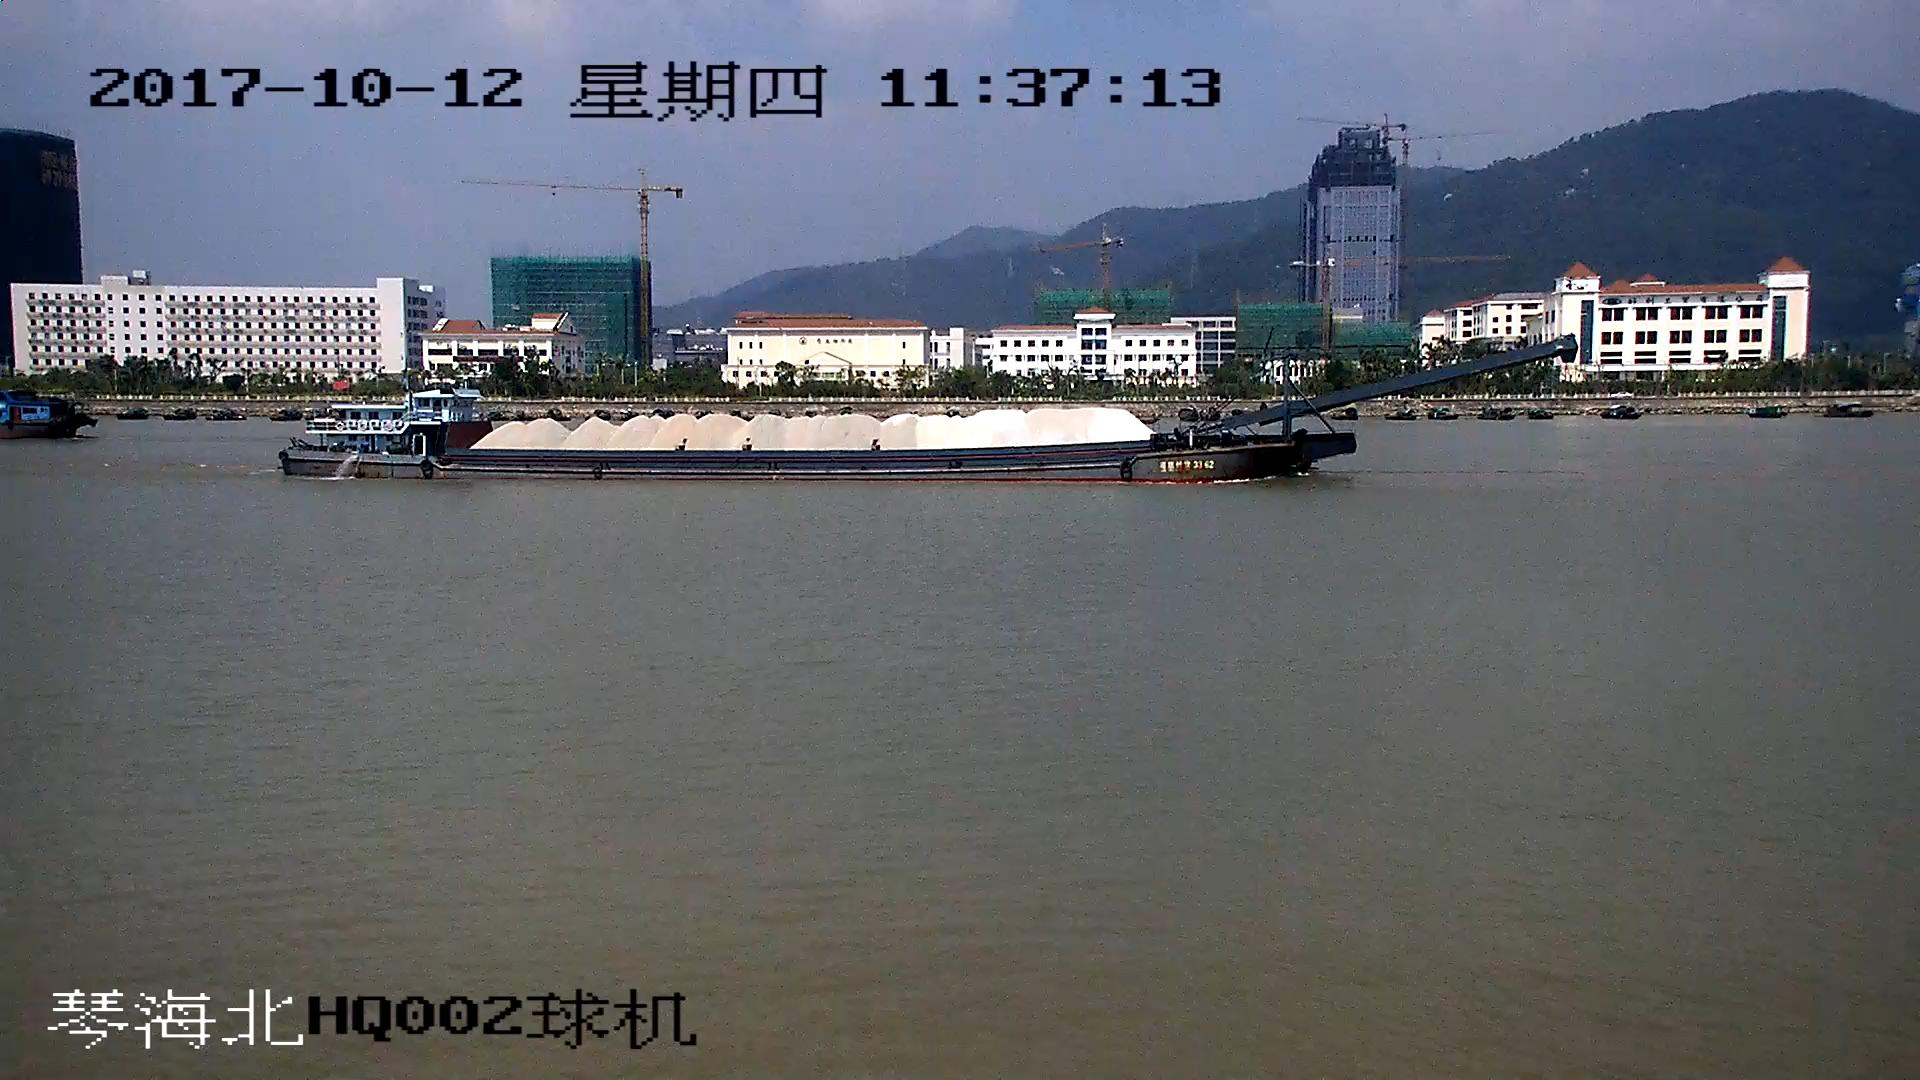ore carrier: (280, 338, 1566, 481)
